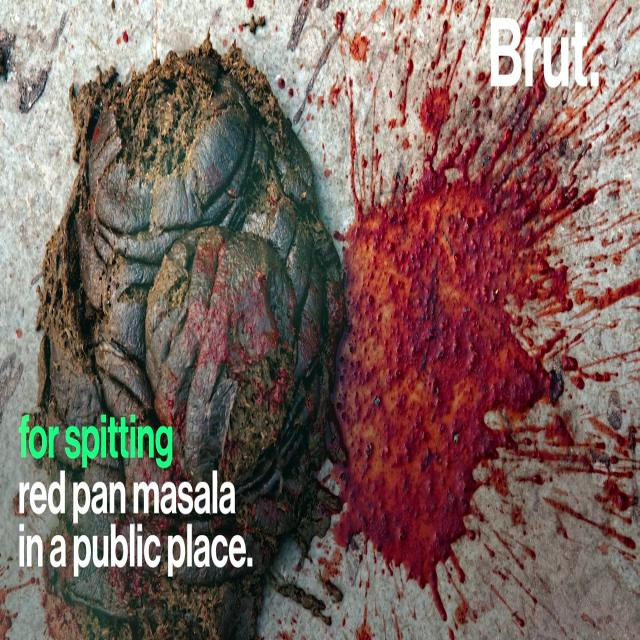spit: (344, 178, 538, 553)
